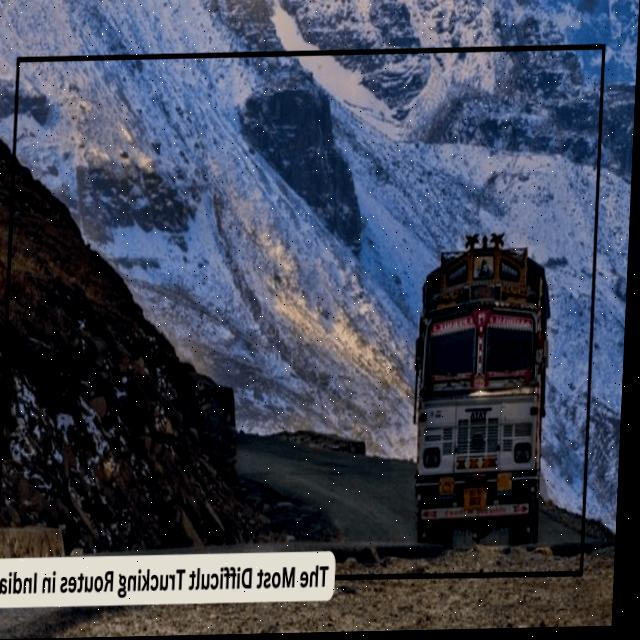plate: (467, 487, 496, 514)
